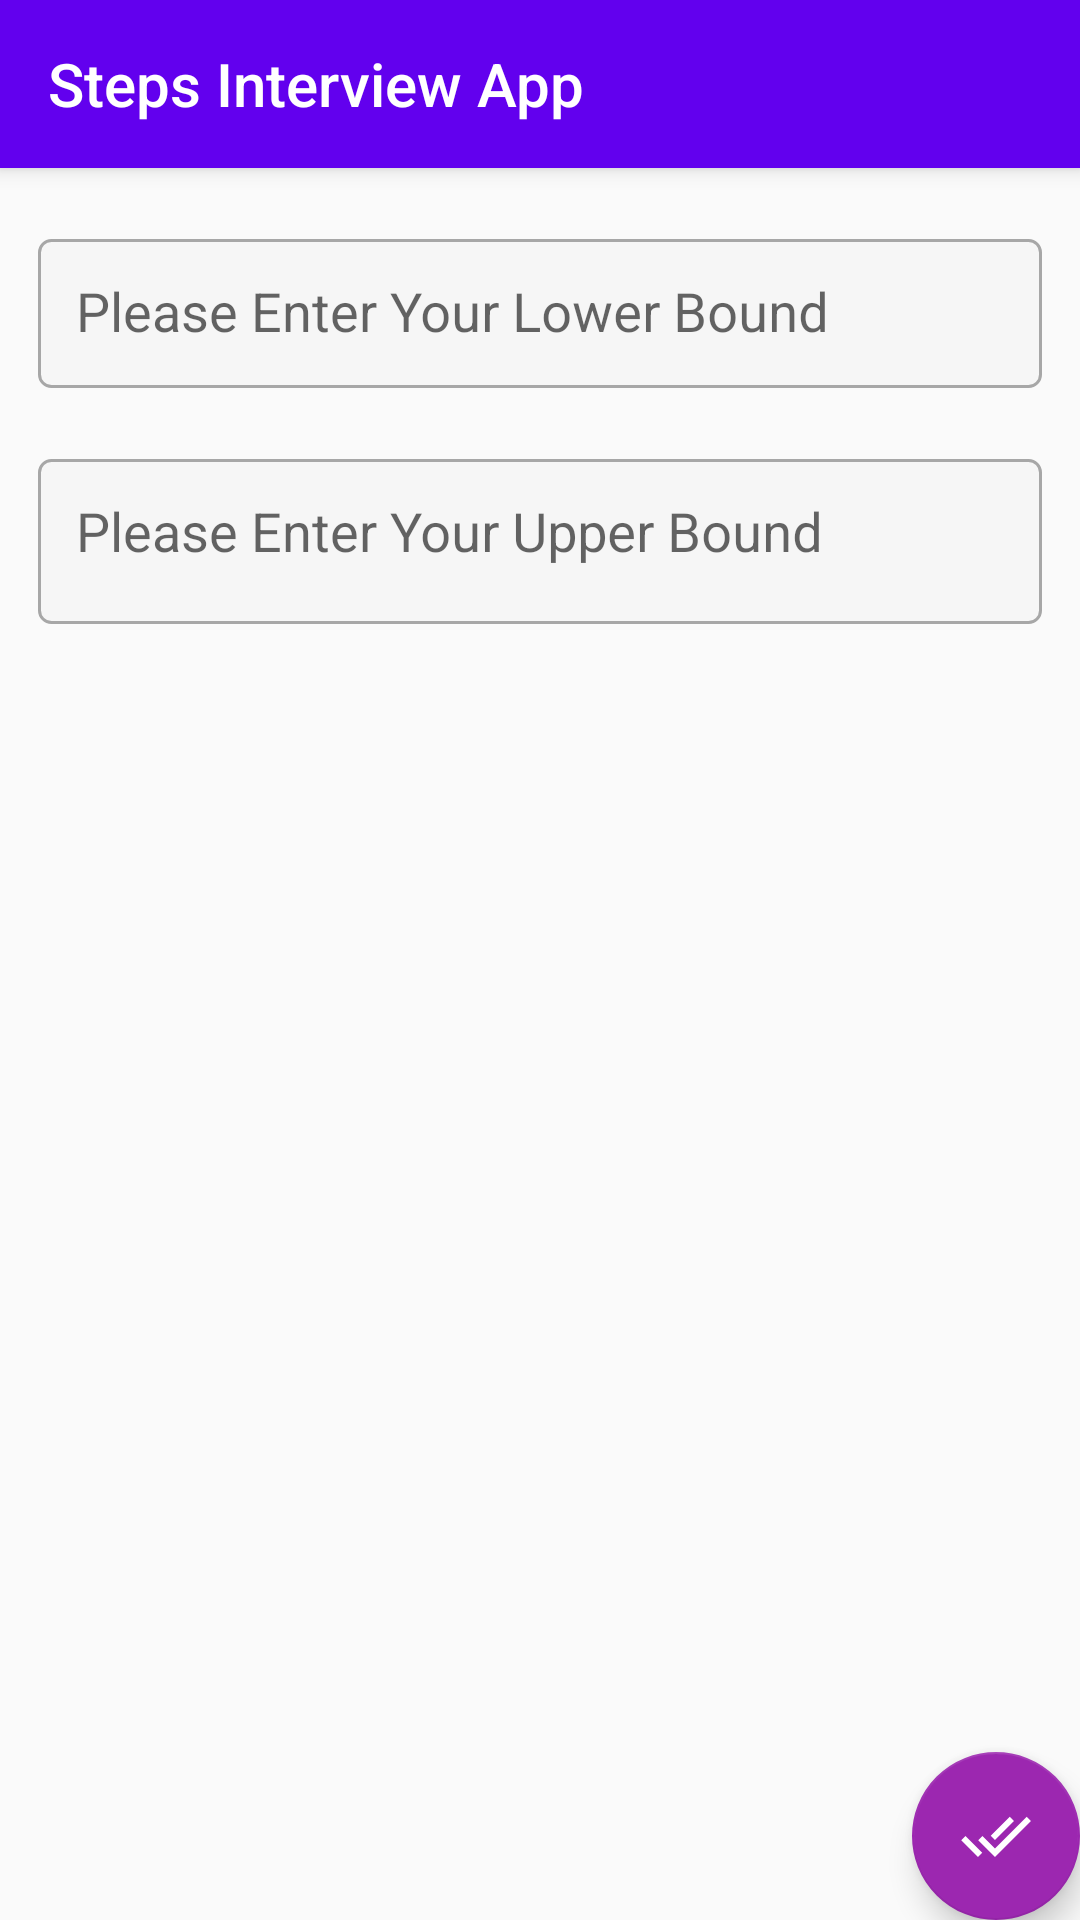

Where to tap for icons on this 1080px×1920px app screen, as (x,y):
done all: (996,1836)
